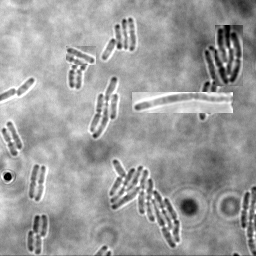Dividing: (132, 92, 233, 113), (1, 128, 18, 157), (34, 166, 47, 202), (28, 164, 39, 200), (239, 192, 249, 229), (67, 66, 81, 89)
Microcolony: (109, 158, 180, 249), (88, 76, 119, 139), (199, 45, 224, 121), (215, 25, 243, 86), (101, 18, 136, 61), (27, 214, 48, 255)
Rod: (66, 46, 96, 65), (5, 121, 23, 150), (16, 78, 34, 99), (73, 69, 82, 90)
